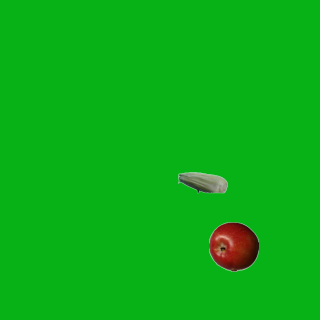Apple Braeburn: (208, 221, 258, 271)
Corn Husk: (177, 157, 227, 207)
